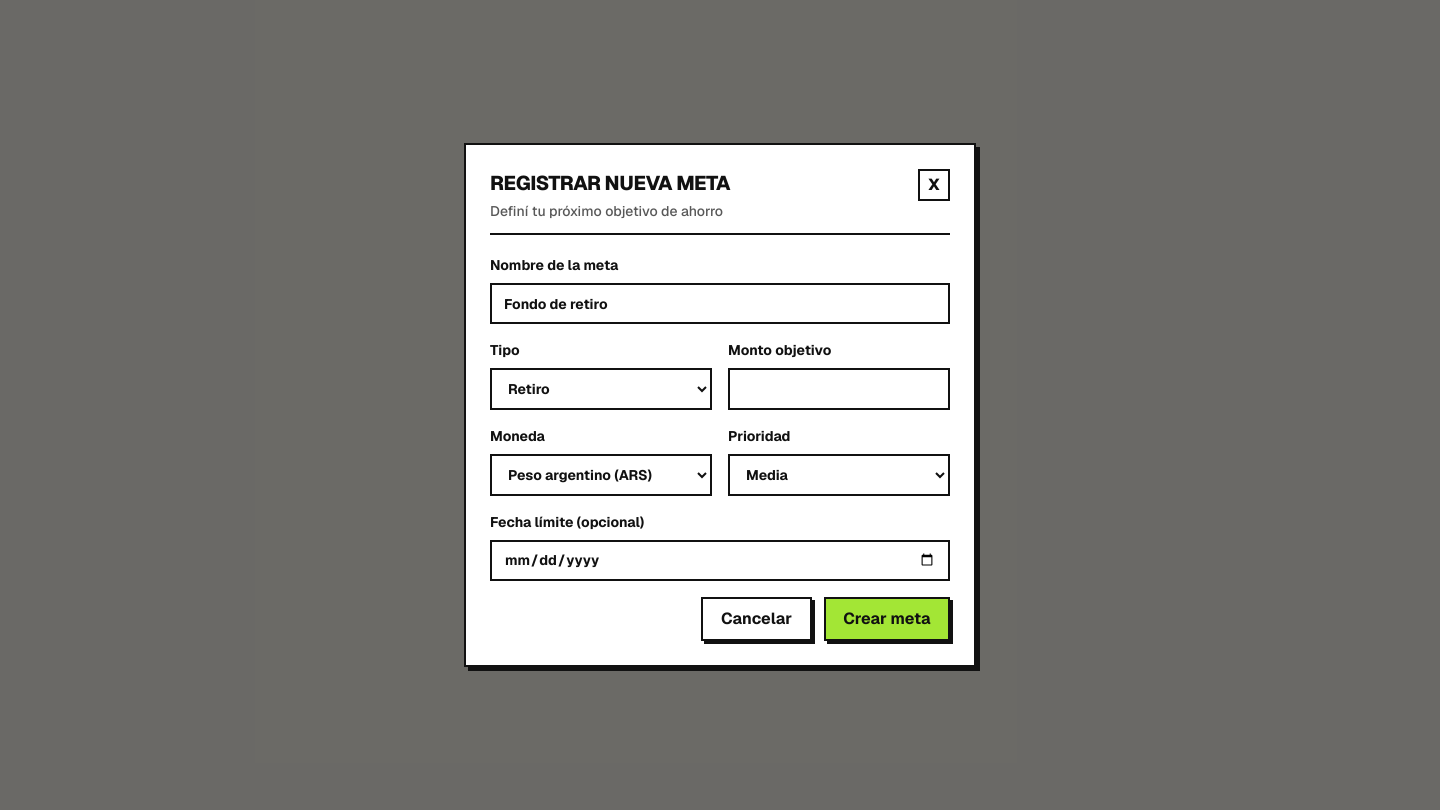
GoalCreateModal › error del servidor: muestra role alert con mensaje
Replace the text in the field with placeholder "Ej. Ahorrar para un viaje" with "Meta test" at x=720, y=304, box top-left (490, 283), bottom-right (950, 324)
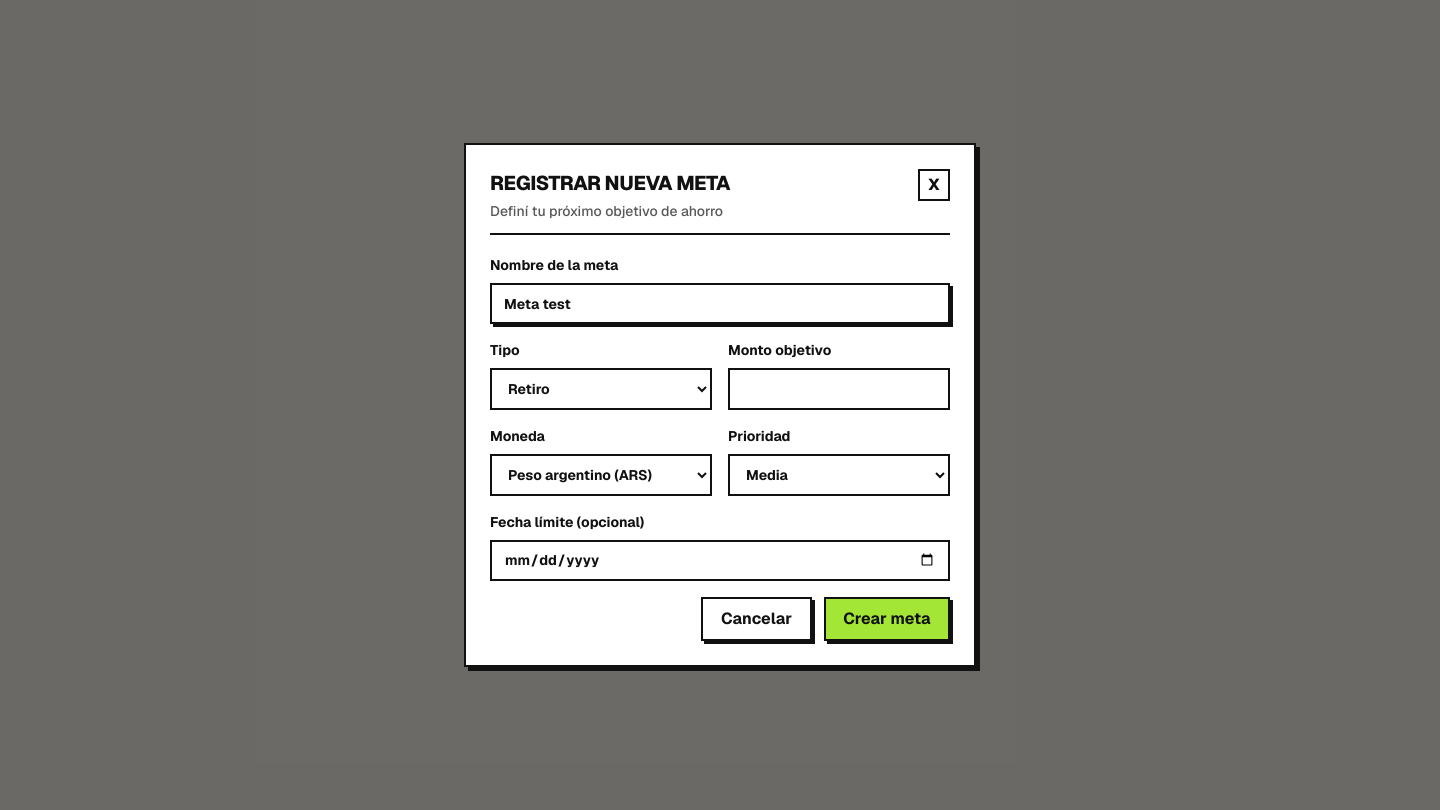
Type "10000" into the field labelled "Monto objetivo".
click(839, 389); type("10000")  # box top-left (728, 368), bottom-right (950, 410)
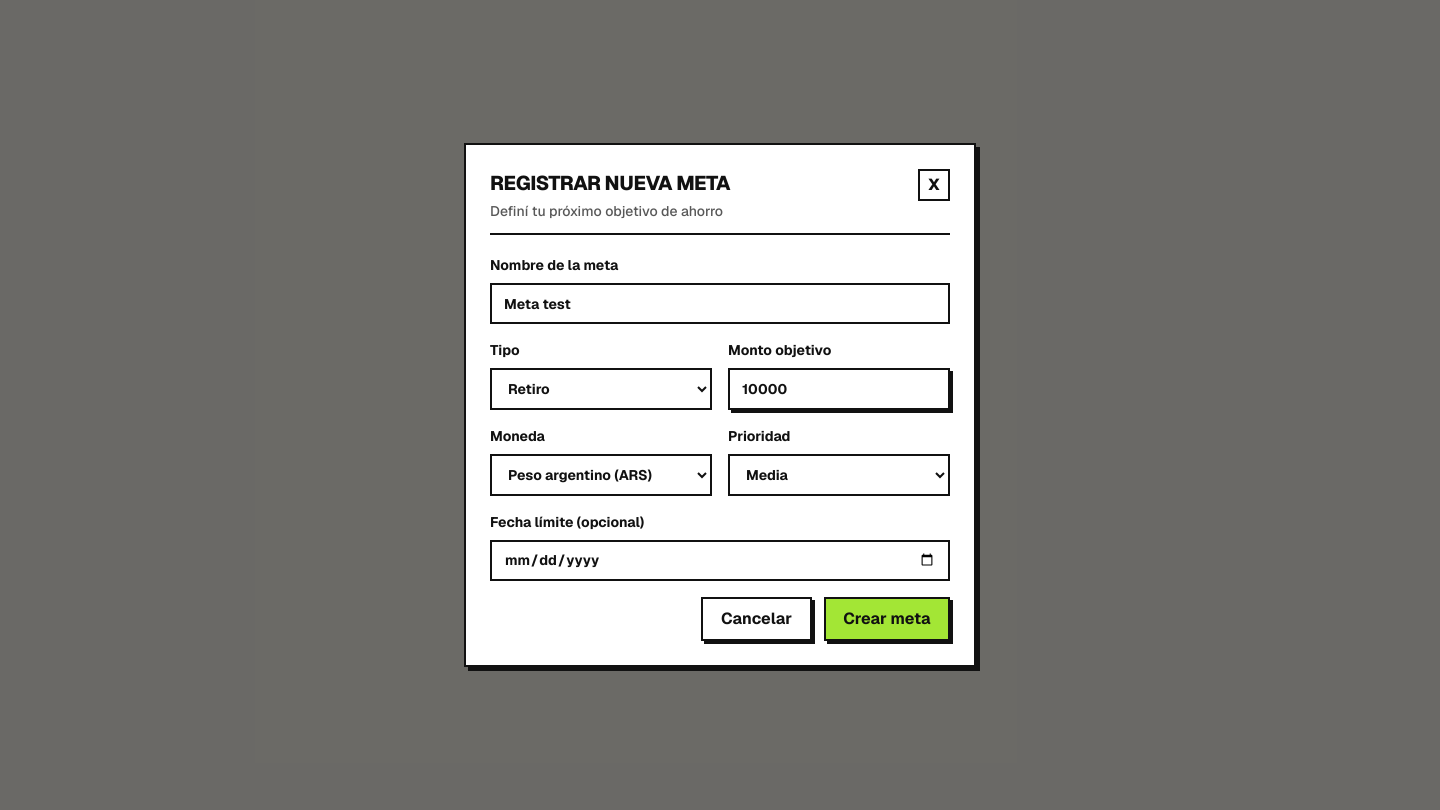
Click the button "Crear meta".
click(887, 619)  # box top-left (824, 597), bottom-right (950, 641)
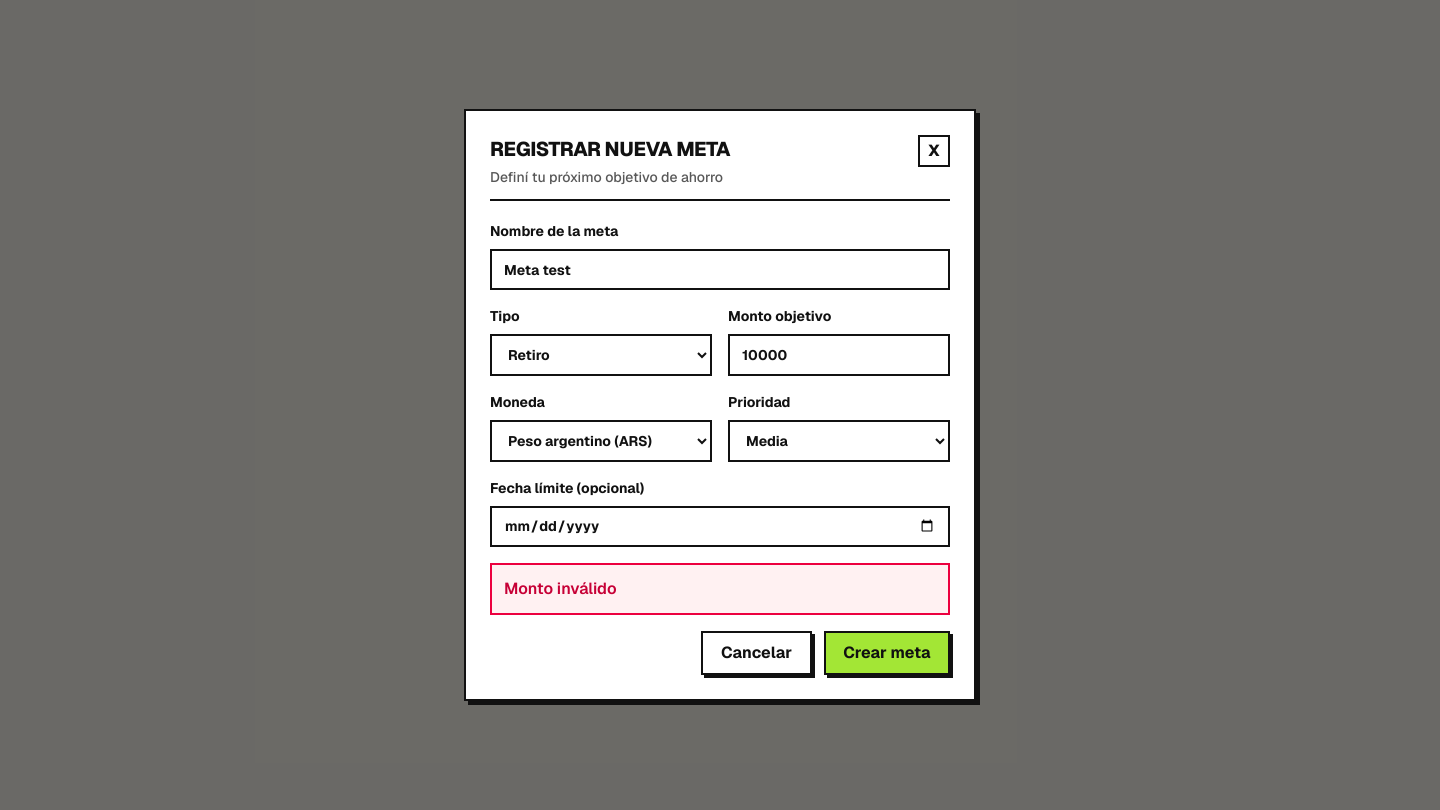
expect the message "Monto inválido" is shown: met, box top-left (490, 563), bottom-right (950, 615)
expect the message reads "Monto inválido": met, box top-left (504, 578), bottom-right (616, 599)
